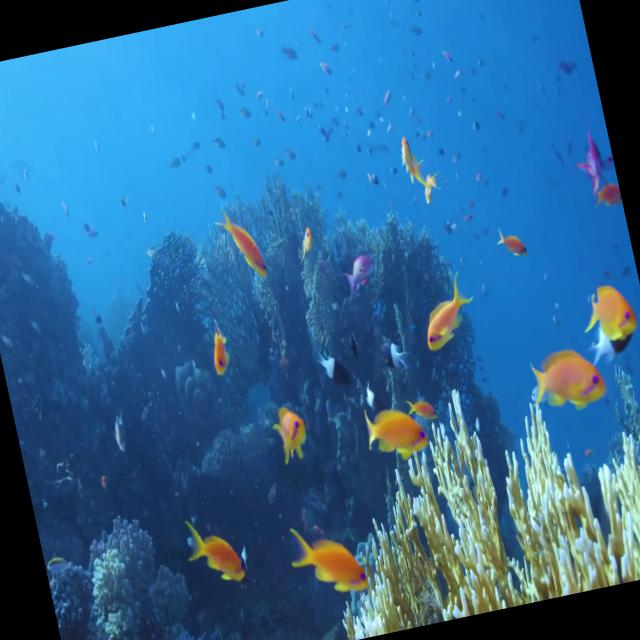fish: (286, 513, 372, 604), (523, 346, 607, 418), (576, 281, 640, 358), (414, 276, 476, 352), (183, 514, 246, 588), (362, 398, 430, 462), (218, 205, 270, 287), (272, 404, 312, 459), (398, 132, 429, 186), (318, 346, 352, 394), (342, 252, 380, 294), (208, 322, 235, 378), (495, 226, 532, 263), (376, 338, 406, 372)
